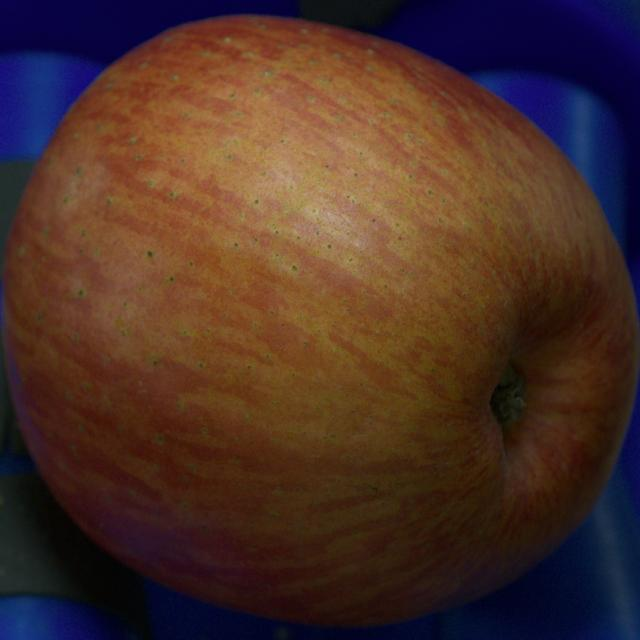apple: (2, 16, 639, 625)
